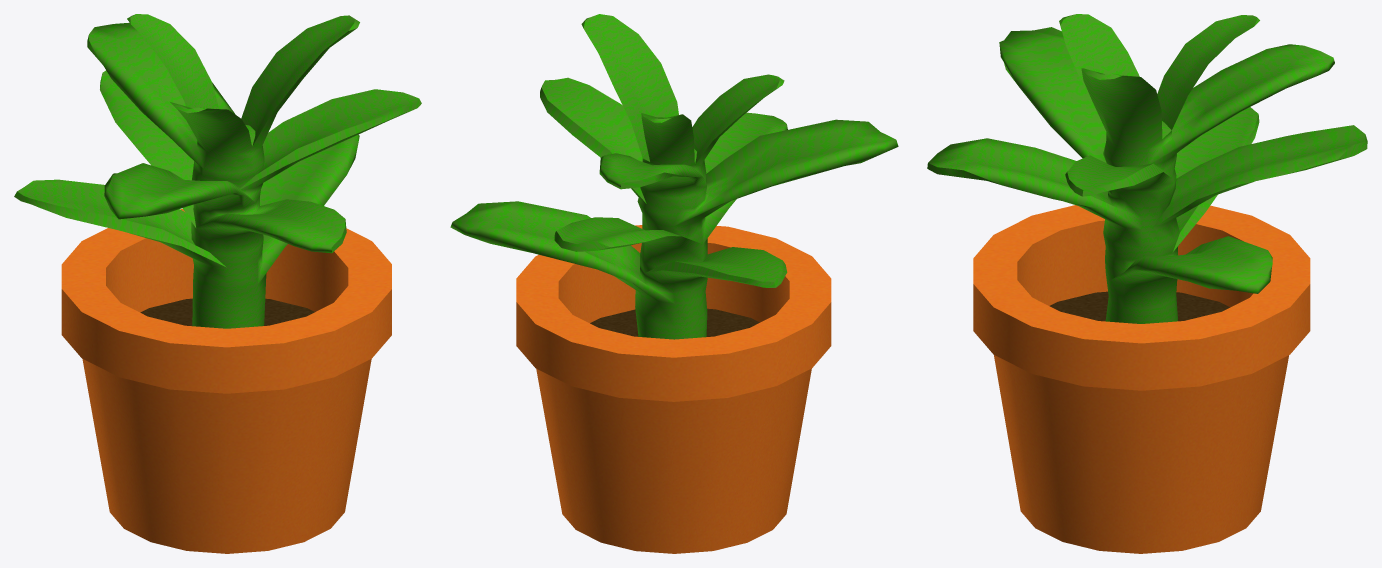
File: plantdone.FBX
The picture shows the model from 3 angles, left to right: view 1: azimuth 30°, elevation 25°; view 2: azimuth 150°, elevation 25°; view 3: azimuth 270°, elevation 25°; orthographic projection. The views are drawn at different scales.
Parts seen in each view (by area): view 1: Cylinder003; view 2: Cylinder003; view 3: Cylinder003.
Part boxes in pixels (left/top/right/bottom): Cylinder003: left=14, top=14, right=421, bottom=553; Cylinder003: left=450, top=14, right=898, bottom=553; Cylinder003: left=927, top=14, right=1367, bottom=553.
Bounding box in the file's own units: 22.82 × 29.51 × 24.38.
